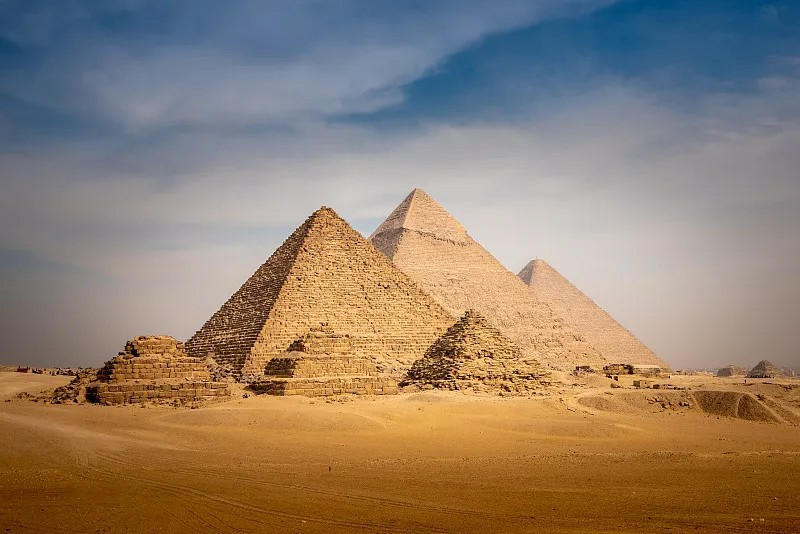Pyramid: (185, 207, 459, 387), (367, 189, 614, 371), (517, 260, 668, 371), (404, 307, 556, 391), (250, 324, 403, 397), (86, 334, 233, 406)
